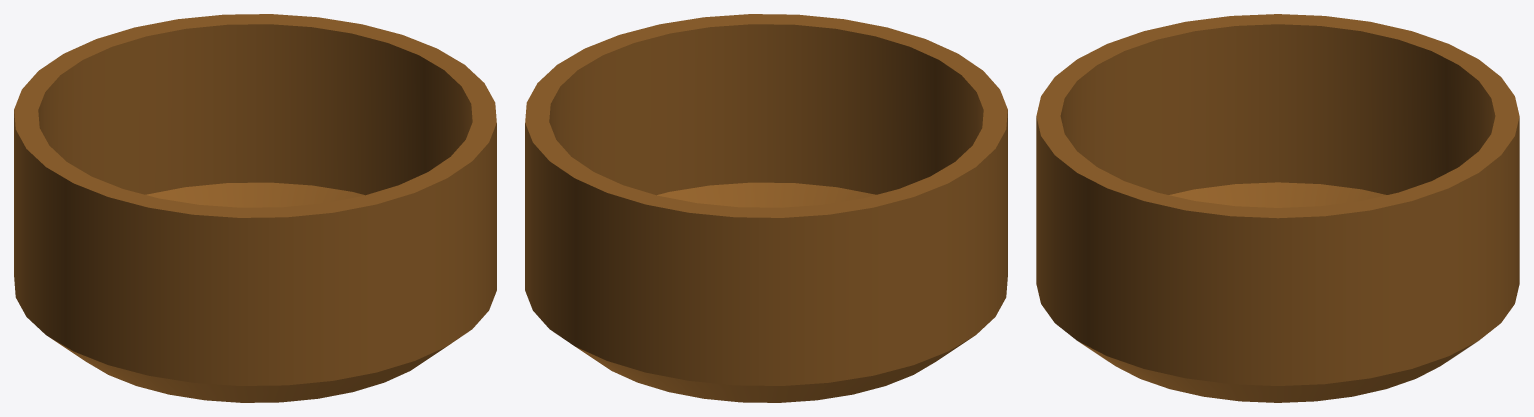
The model's file is finishing_line.fbx.
The picture shows the model from 3 angles, left to right: view 1: azimuth 30°, elevation 25°; view 2: azimuth 150°, elevation 25°; view 3: azimuth 270°, elevation 25°; orthographic projection.
Parts seen in each view (by area): view 1: Cylinder; view 2: Cylinder; view 3: Cylinder.
Boxes of the visible parts, x1,y1,x2,y2 form: Cylinder: (14, 14, 496, 402); Cylinder: (525, 14, 1007, 402); Cylinder: (1036, 14, 1519, 402).
Bounding box in the file's own units: 200 × 93.31 × 200.
